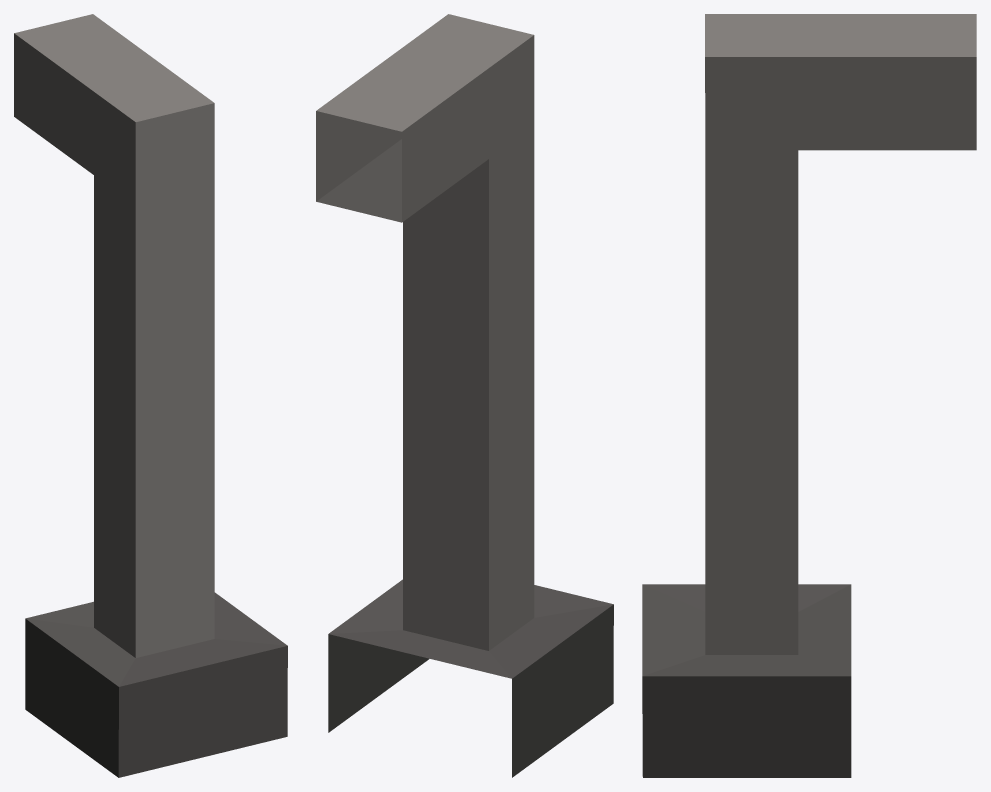
The model's file is SM_Pipe_01.fbx.
The picture shows the model from 3 angles, left to right: view 1: azimuth 30°, elevation 25°; view 2: azimuth 150°, elevation 25°; view 3: azimuth 270°, elevation 25°; orthographic projection. The views are drawn at different scales.
Parts seen in each view (by area): view 1: SM_Pipe_01; view 2: SM_Pipe_01; view 3: SM_Pipe_01.
Part boxes in pixels (x1,y1,x2,y2): SM_Pipe_01: (14, 14, 287, 777); SM_Pipe_01: (316, 14, 613, 777); SM_Pipe_01: (642, 14, 976, 777).
Size of the model in its own units: 0.4145 by 1.46 by 0.6368.
